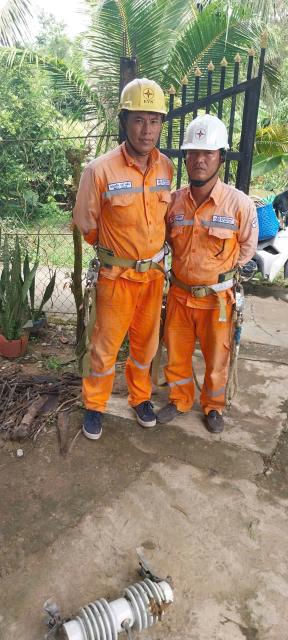harness: (172, 262, 265, 304), (92, 242, 185, 281)
helmet: (180, 103, 233, 152), (111, 74, 169, 116)
shoes: (72, 396, 126, 443), (116, 391, 161, 433), (203, 402, 233, 436), (154, 398, 184, 424)
